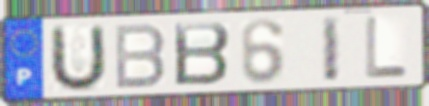6: (239, 17, 288, 87)
B: (170, 19, 233, 88), (111, 22, 167, 92)
I: (319, 14, 343, 85)
L: (363, 14, 410, 81)
U: (47, 22, 109, 95)
